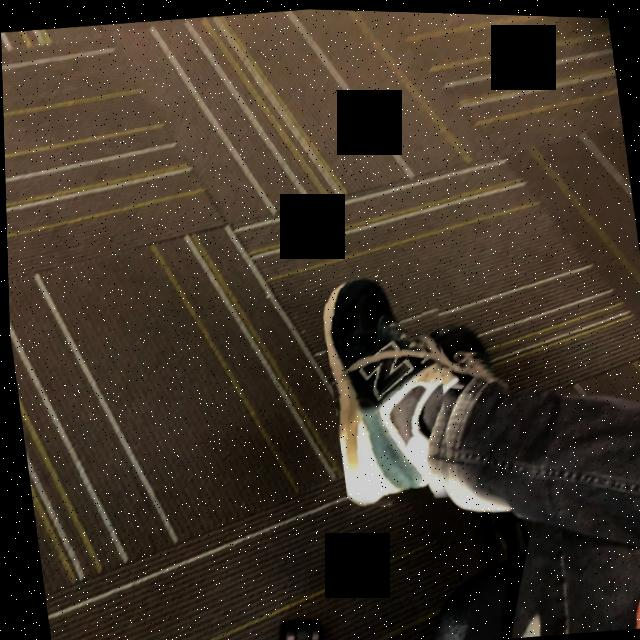shoe: (321, 277, 440, 504)
